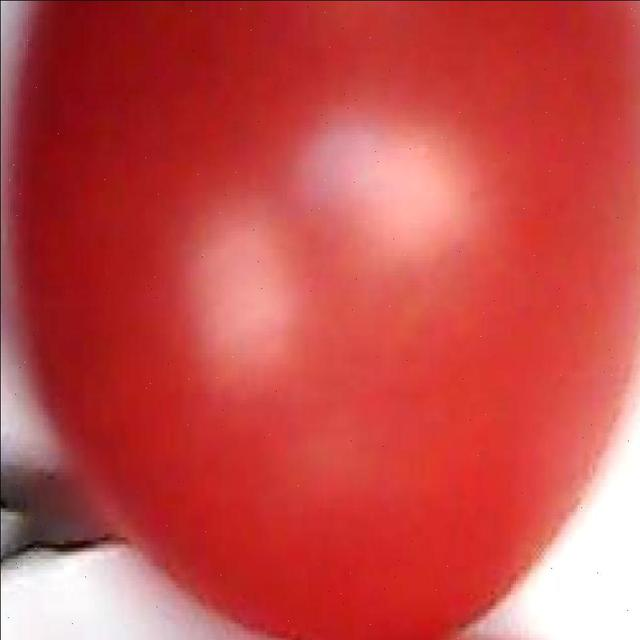Healthy Fruit: (17, 0, 426, 418)
